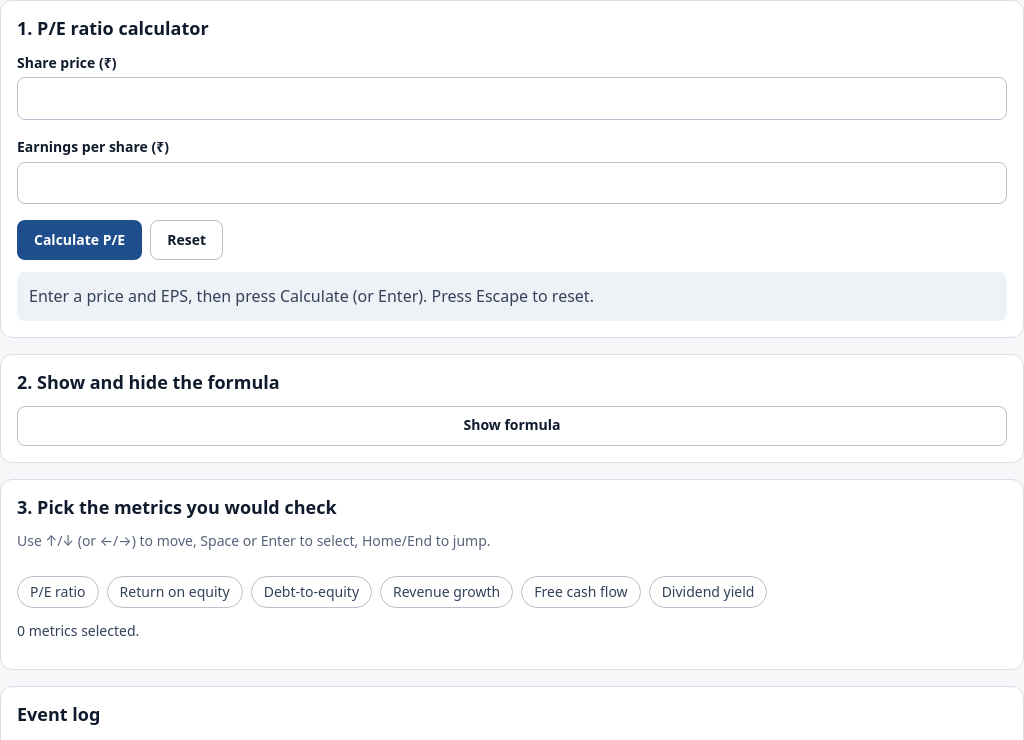
Test: vanilla JS DOM lab › validates, calculates, toggles and cleans up
Later steps or results of the test are not shown.
Click the submit button: (80, 240) [17,220,142,260]
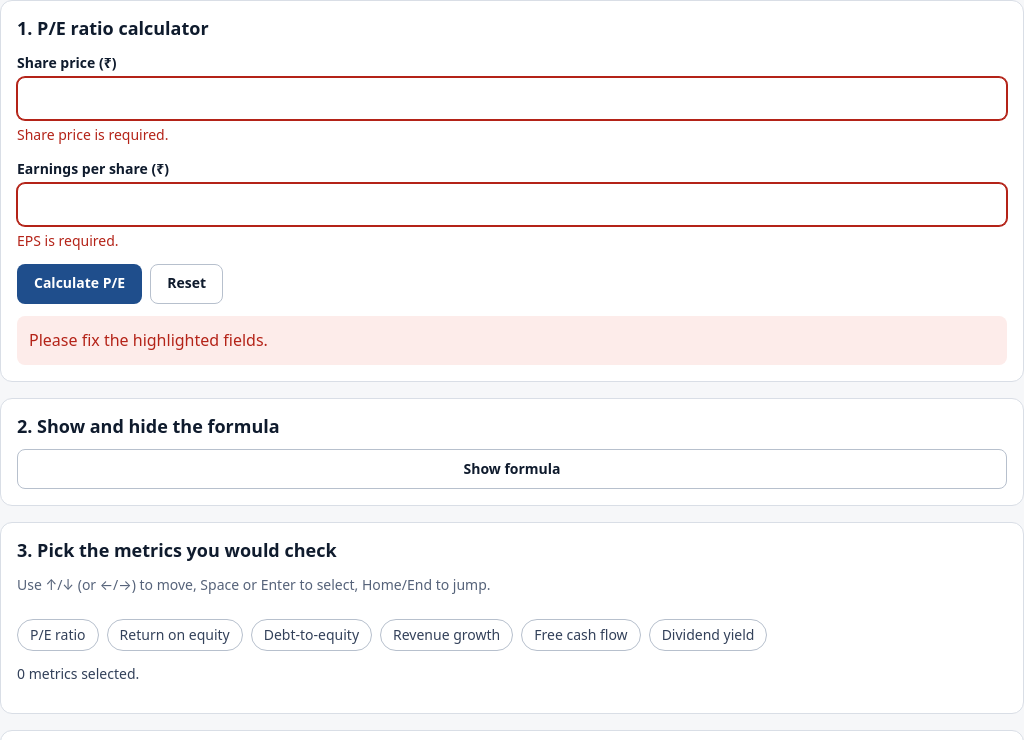
Now the text with id "lab-price-err" shows "required", box [17,125,168,144]
In the field with id "lab-price": (512, 99) [17,77,1007,120], type "500"
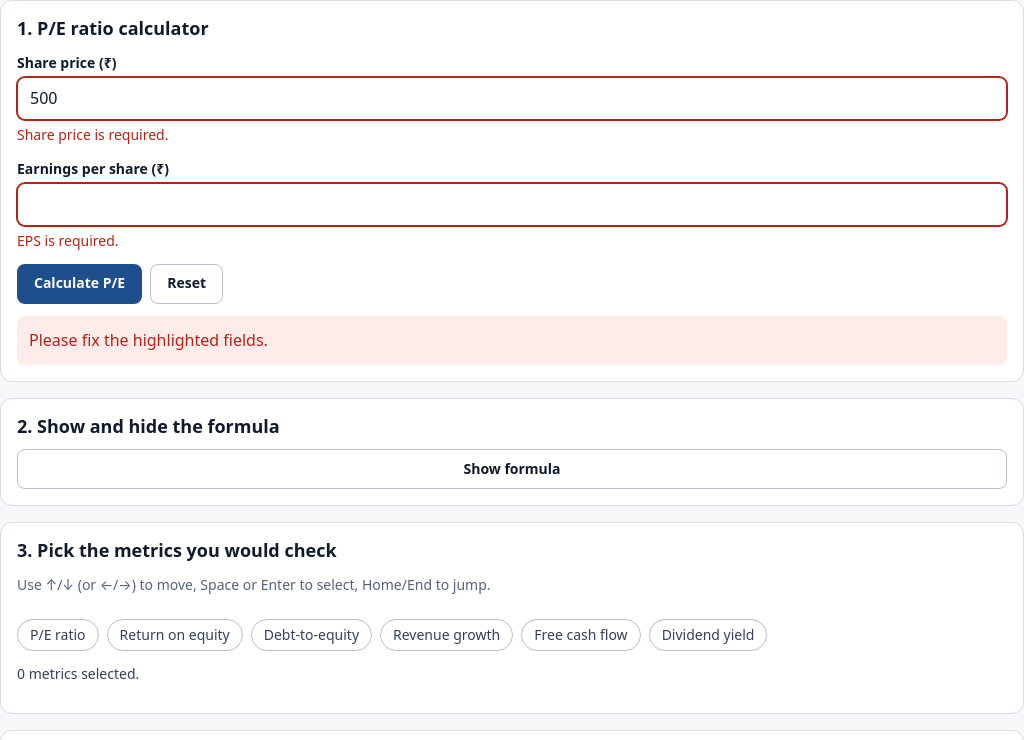
In the field with id "lab-eps": (512, 205) [17,183,1007,226], type "-2"
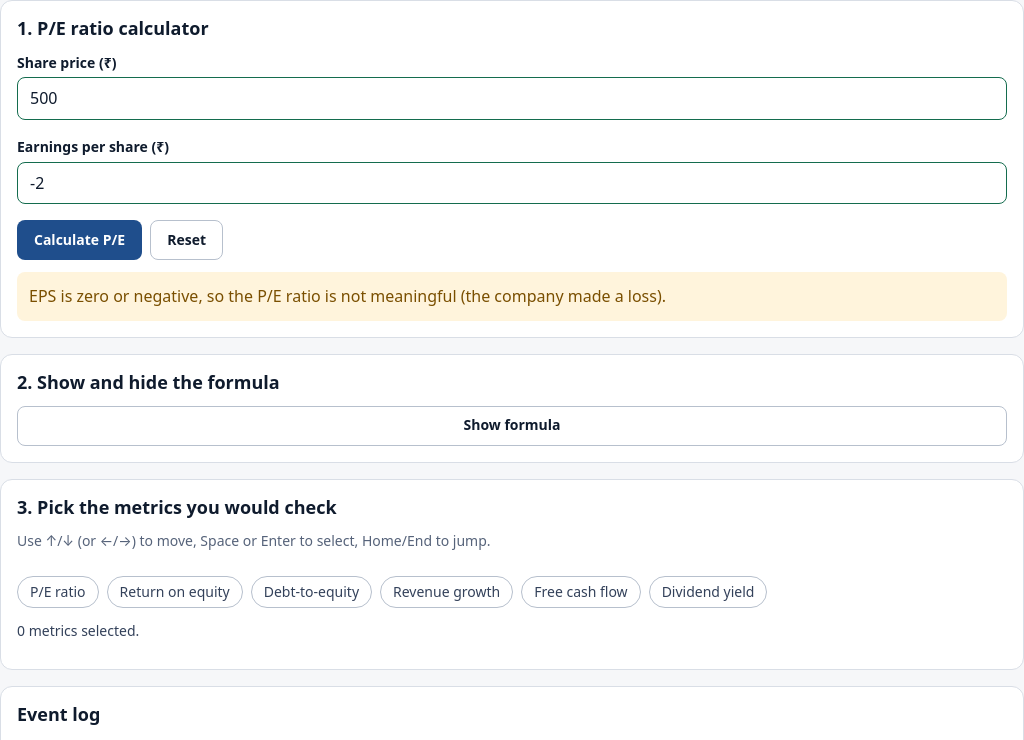
Now the message with class "lab__result" shows "not meaningful", box [29,286,666,308]
Replace the text in the field with id "lab-eps" with "25": (512, 183) [17,162,1007,204]
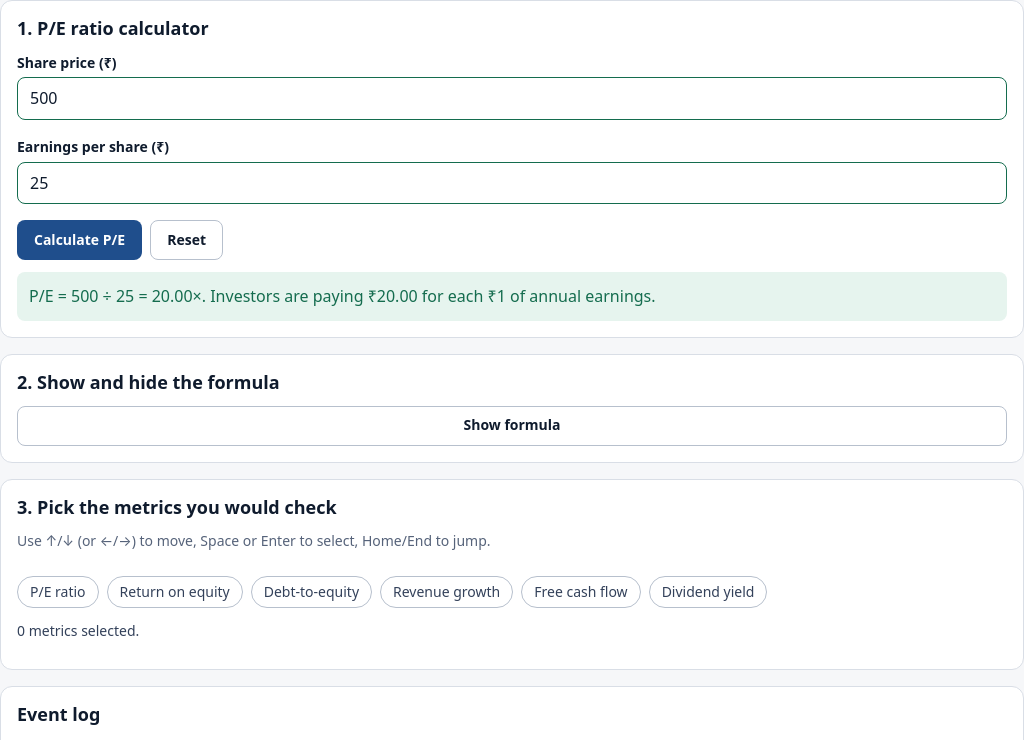
Now the message with class "lab__result" shows "20.00×", box [29,286,656,308]
